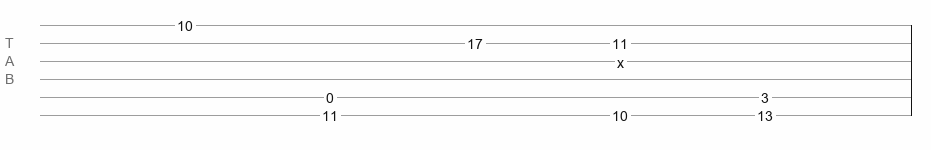0: (326, 90, 334, 100)
10: (177, 18, 193, 28), (612, 108, 628, 118)
11: (322, 108, 338, 118), (612, 36, 628, 46)
13: (757, 108, 773, 118)
17: (467, 36, 483, 46)
3: (761, 90, 769, 100)
x: (617, 55, 624, 63)
